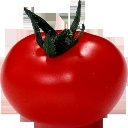tomato: (0, 29, 126, 119)
